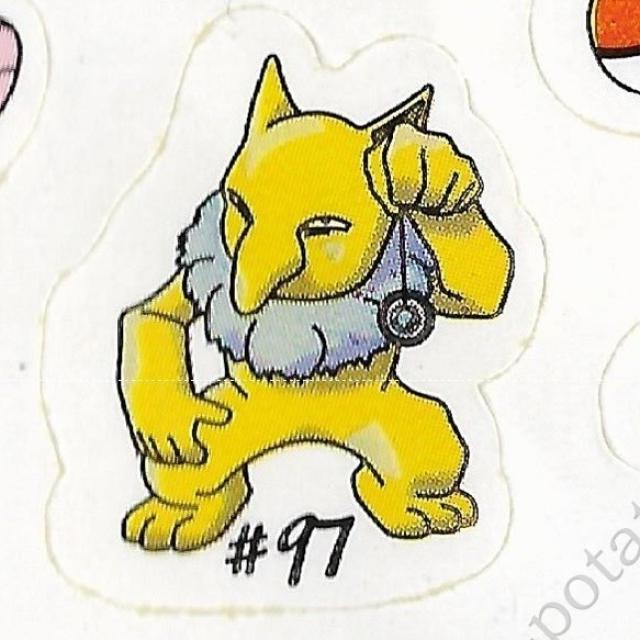Hypno: (115, 58, 518, 552)
